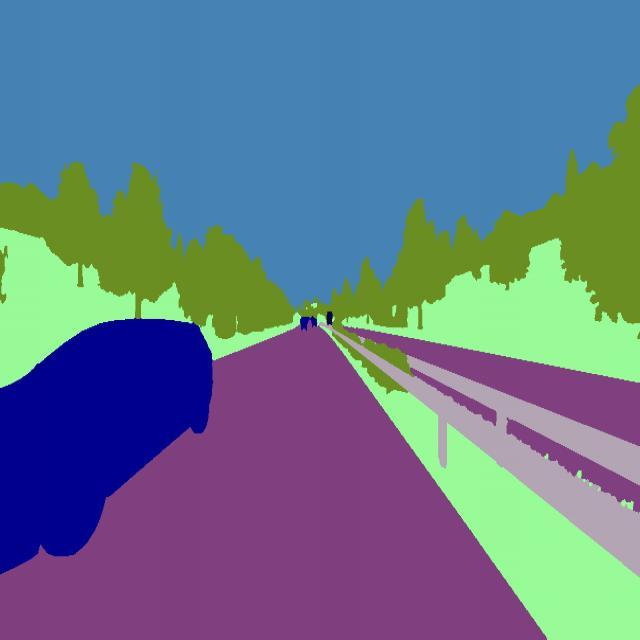safe: (308, 310, 320, 330), (300, 316, 309, 336), (326, 308, 334, 330)
unsafe: (0, 304, 218, 580)
